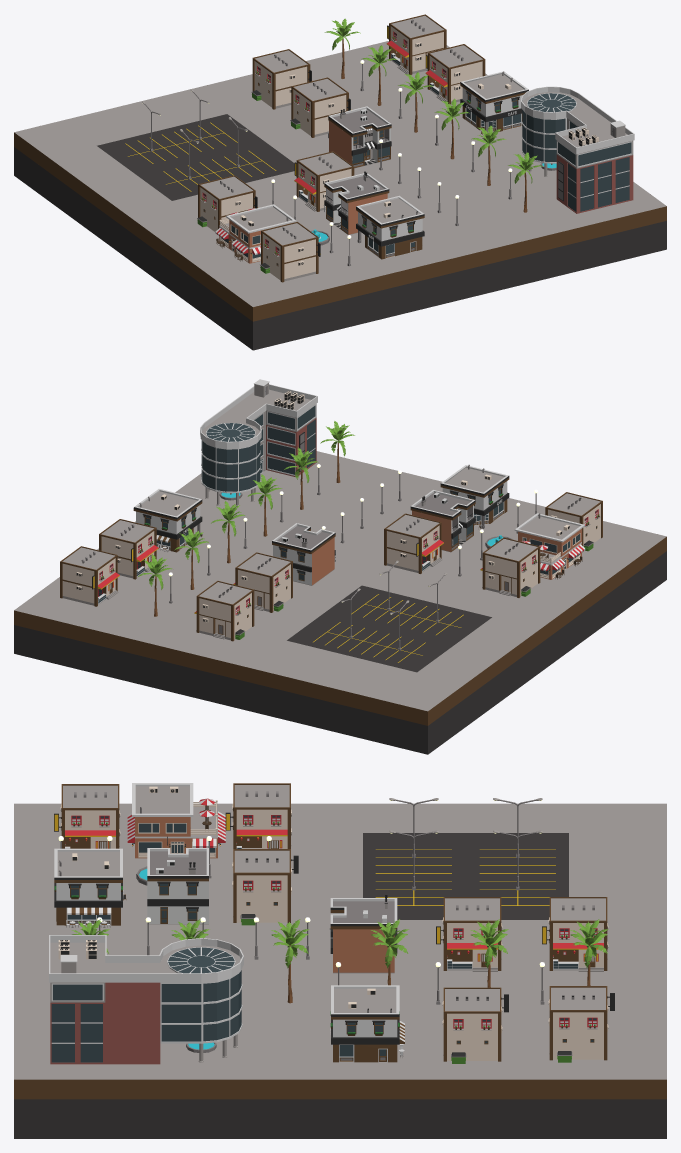
Rendered from POIShops.glb.
The picture shows the model from 3 angles, top to bottom: view 1: azimuth 30°, elevation 25°; view 2: azimuth 150°, elevation 25°; view 3: azimuth 270°, elevation 25°; orthographic projection. The views are drawn at different scales.
Visible parts, largest first — view 1: Cube, building-mall, tile-plain-nb, building-cafe.001, building-cafe.002, building-tattoo.002, palm-high.051, building-shop-china.004, building-shop-china.003, building-shop-china.006, building-shop-china.002, building-restaurant (+4 smaller); view 2: Cube, building-mall, tile-plain-nb, palm-high.051, building-shop-china.001, building-shop-china.003, building-shop-china.006, building-shop-china.005, building-restaurant, building-cafe.002, building-tattoo.002, building-cafe.001 (+4 smaller); view 3: Cube, building-mall, tile-plain-nb, building-restaurant, building-cafe.002, building-cafe.001, building-tattoo.001, building-shop-china.007, building-tattoo.002, building-shop-china.006, building-shop-china.005, palm-high.051 (+4 smaller).
Boxes of the visible parts, x1,y1,x2,y2 form: Cube: [14, 41, 666, 350]; building-mall: [521, 86, 634, 213]; tile-plain-nb: [97, 114, 294, 200]; building-cafe.001: [356, 195, 424, 259]; building-cafe.002: [460, 71, 528, 134]; building-tattoo.002: [328, 106, 391, 168]; palm-high.051: [324, 18, 542, 212]; building-shop-china.004: [260, 222, 320, 282]; building-shop-china.003: [251, 49, 311, 109]; building-shop-china.006: [386, 14, 446, 74]; building-shop-china.002: [290, 77, 351, 137]; building-restaurant: [215, 204, 296, 263]; Cube: [14, 451, 666, 754]; building-mall: [200, 379, 317, 506]; tile-plain-nb: [287, 585, 491, 672]; palm-high.051: [138, 421, 354, 616]; building-shop-china.001: [480, 537, 540, 597]; building-shop-china.003: [194, 581, 254, 641]; building-shop-china.006: [60, 546, 119, 606]; building-shop-china.005: [384, 513, 443, 573]; building-restaurant: [514, 513, 585, 579]; building-cafe.002: [133, 489, 202, 552]; building-tattoo.002: [272, 523, 335, 585]; building-cafe.001: [440, 464, 509, 528]; Cube: [14, 803, 666, 1138]; building-mall: [49, 935, 243, 1064]; tile-plain-nb: [363, 833, 568, 919]; building-restaurant: [127, 783, 225, 858]; building-cafe.002: [330, 985, 404, 1062]; building-cafe.001: [54, 848, 126, 927]; building-tattoo.001: [147, 848, 208, 924]; building-shop-china.007: [442, 987, 508, 1063]; building-tattoo.002: [330, 895, 397, 973]; building-shop-china.006: [548, 986, 614, 1062]; building-shop-china.005: [232, 849, 298, 925]; palm-high.051: [71, 919, 608, 1003].
Size of the model in its own units: 15.23 by 4.15 by 15.23.
32 materials, 1 textured.
